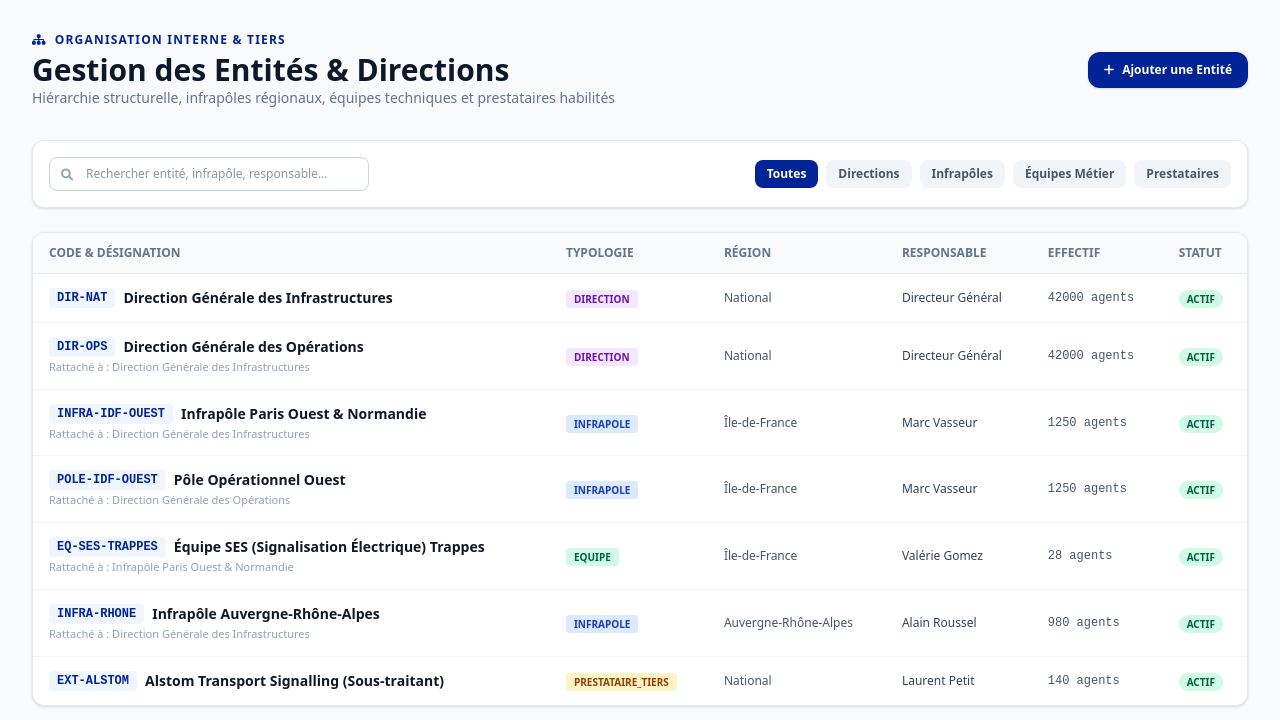
User Story 4.5: Entites Organizational Hierarchy Component › opens modal to create a new organizational entity
Click the button "Ajouter une Entité".
click(1168, 70)  # box left=1088, top=52, right=1248, bottom=88
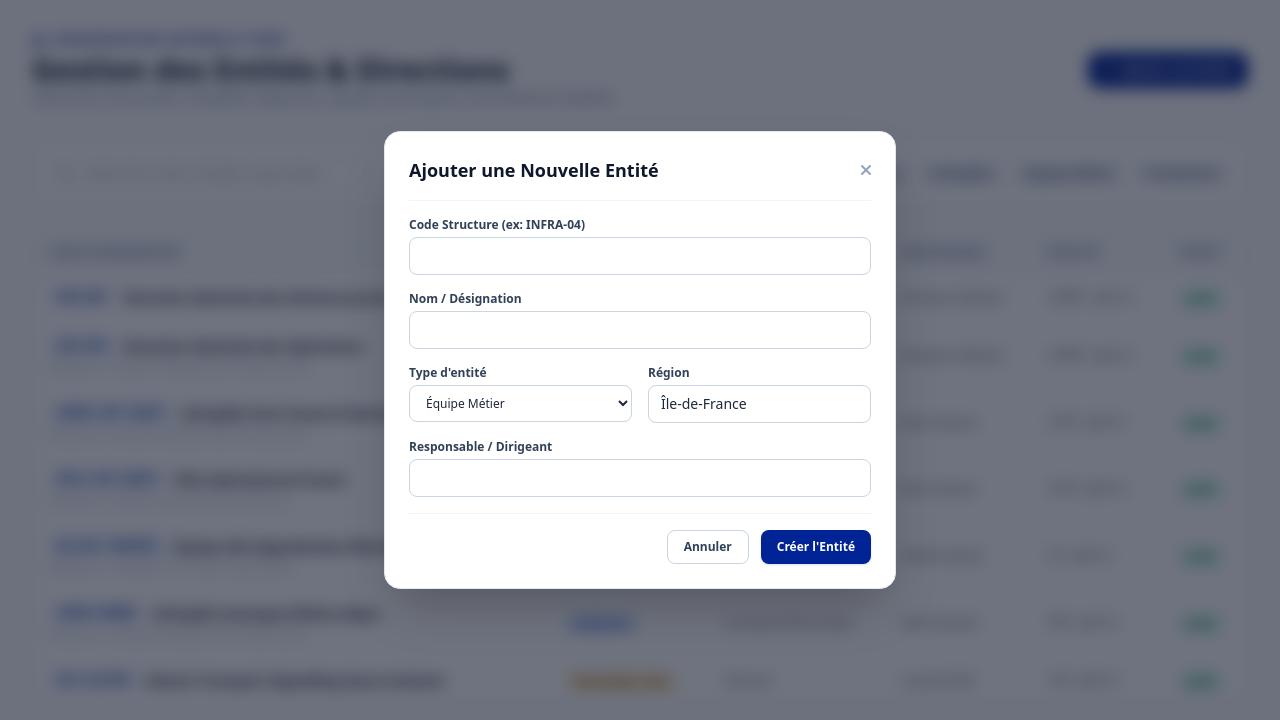
Now the heading "Ajouter une Nouvelle Entité" is shown, box left=409, top=156, right=659, bottom=184
Now the button "Créer l'Entité" is shown, box left=761, top=530, right=871, bottom=564
// Close modal
Click the button "Annuler".
click(708, 547)  # box left=667, top=530, right=749, bottom=564
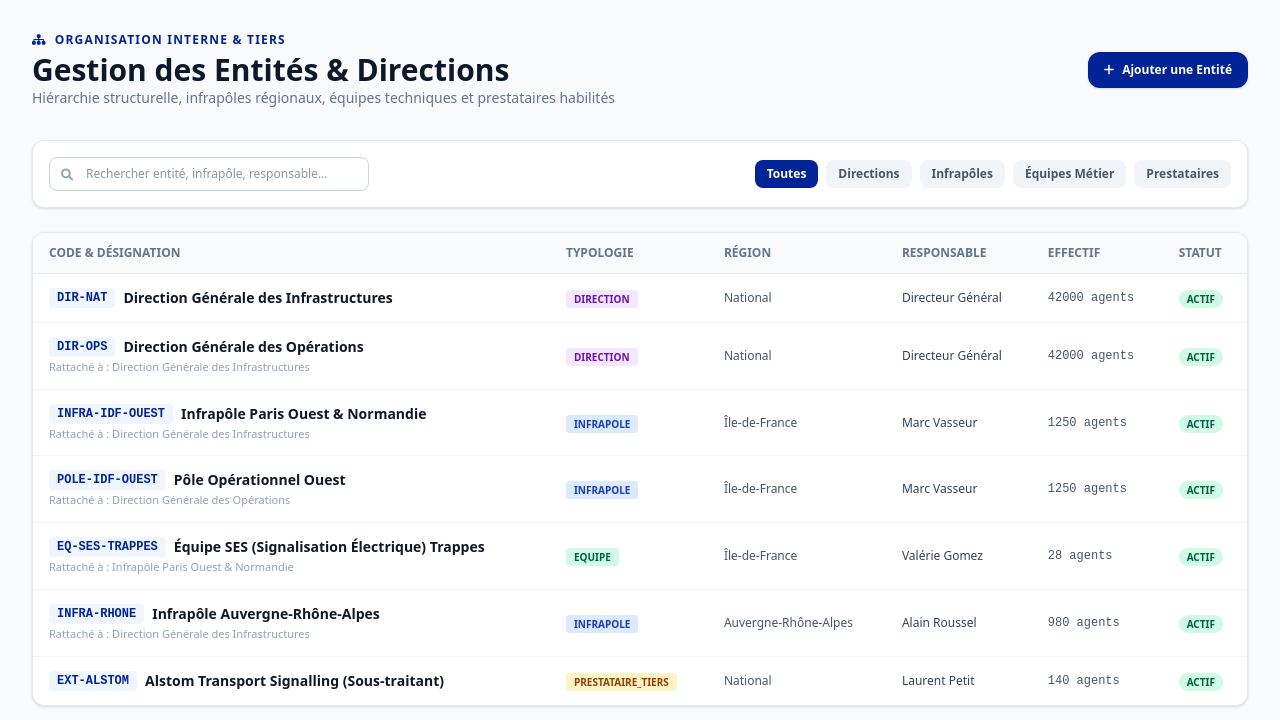
Now the heading "Ajouter une Nouvelle Entité" is gone
